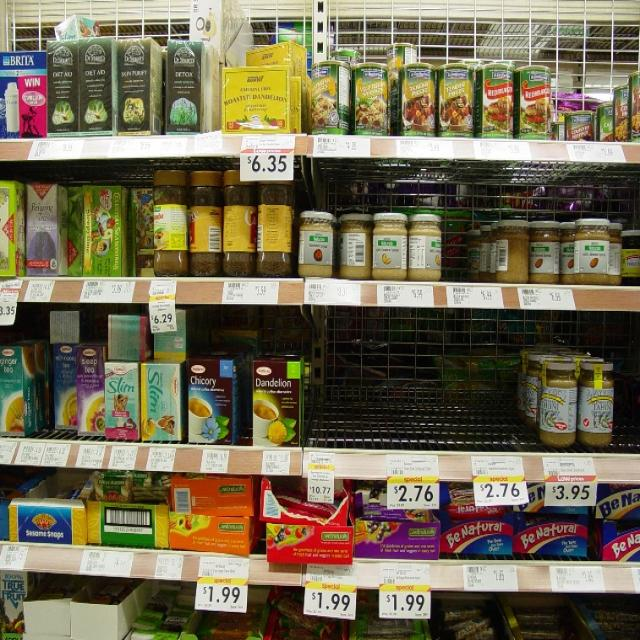q118: (253, 355, 307, 447)
